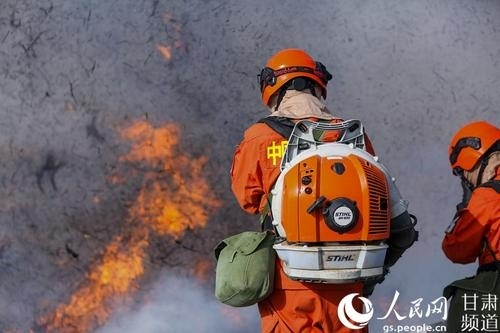fire: (36, 113, 224, 327), (153, 10, 185, 61)
